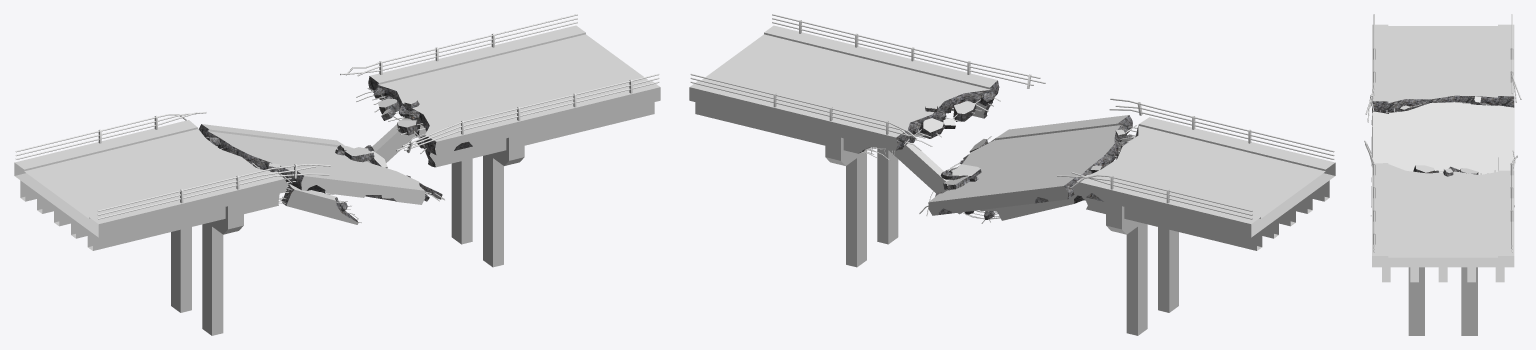
The model's file is overpass_des_LOD0.fbx.
3 views of the same model, side by side, from view 1: azimuth 30°, elevation 25°; view 2: azimuth 150°, elevation 25°; view 3: azimuth 270°, elevation 25° (orthographic). The views are drawn at different scales.
Parts seen in each view (by area): view 1: polySurface1597; view 2: polySurface1597; view 3: polySurface1597.
Part boxes in pixels (left/top/right/bottom): polySurface1597: left=14, top=14, right=660, bottom=335; polySurface1597: left=689, top=14, right=1335, bottom=335; polySurface1597: left=1364, top=14, right=1521, bottom=335.
Bounding box in the file's own units: 50 × 14.77 × 14.37.
